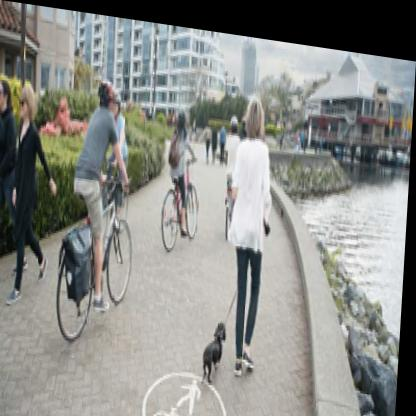With Helmet: (96, 67, 116, 111), (176, 98, 188, 125)
